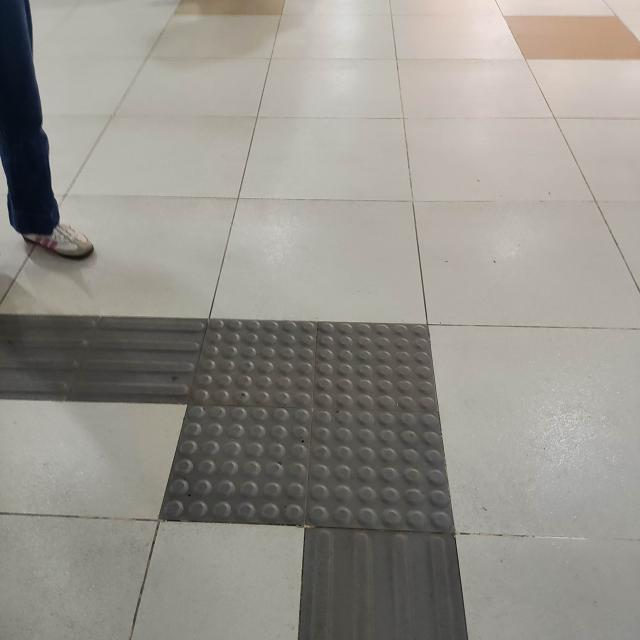kiri: (9, 280, 512, 601)
